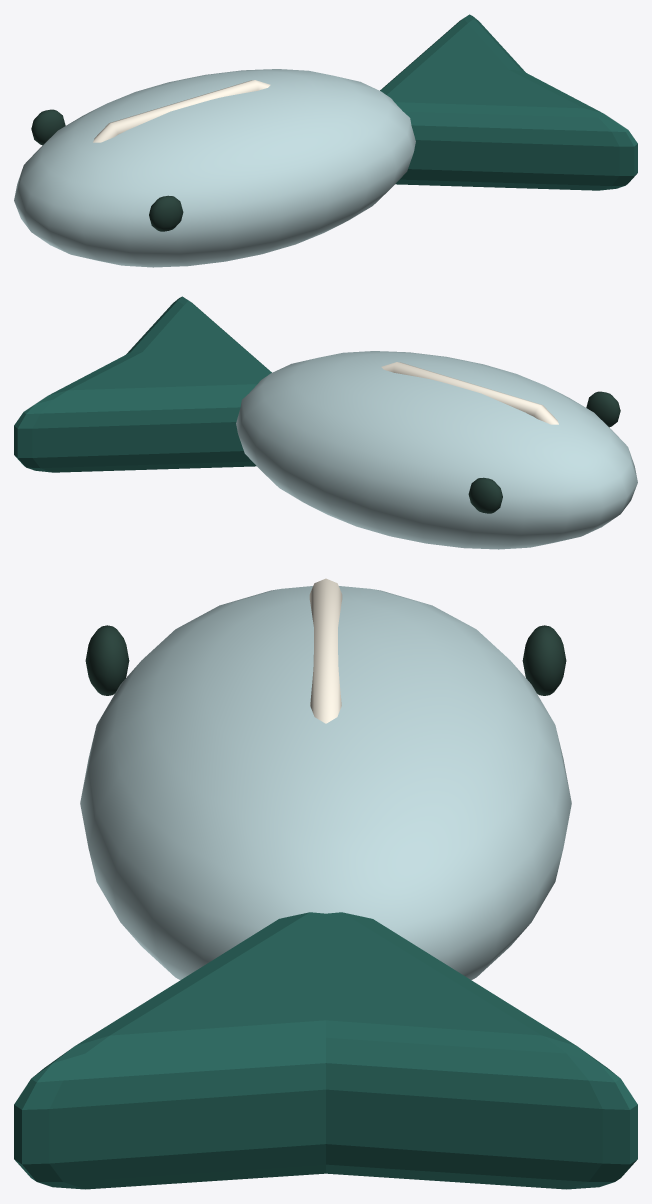
File: fish.glb
The picture shows the model from 3 angles, top to bottom: view 1: azimuth 30°, elevation 25°; view 2: azimuth 150°, elevation 25°; view 3: azimuth 270°, elevation 25°; orthographic projection. The views are drawn at different scales.
Visible parts, largest first — view 1: Cloth fish body, Distinct fish tail, Fish top seam, Fish stitched eye.001, Fish stitched eye; view 2: Cloth fish body, Distinct fish tail, Fish top seam, Fish stitched eye, Fish stitched eye.001; view 3: Cloth fish body, Distinct fish tail, Fish top seam, Fish stitched eye.001, Fish stitched eye.
Boxes of the visible parts, left/top/right/bottom form: Cloth fish body: left=14, top=69, right=415, bottom=267; Distinct fish tail: left=380, top=14, right=637, bottom=190; Fish top seam: left=93, top=80, right=270, bottom=142; Fish stitched eye.001: left=149, top=195, right=183, bottom=231; Fish stitched eye: left=31, top=109, right=65, bottom=145; Cloth fish body: left=236, top=351, right=637, bottom=549; Distinct fish tail: left=14, top=296, right=271, bottom=472; Fish top seam: left=381, top=362, right=558, bottom=424; Fish stitched eye: left=468, top=477, right=502, bottom=513; Fish stitched eye.001: left=586, top=391, right=620, bottom=427; Cloth fish body: left=80, top=586, right=571, bottom=979; Distinct fish tail: left=14, top=912, right=637, bottom=1189; Fish top seam: left=309, top=578, right=342, bottom=723; Fish stitched eye.001: left=85, top=625, right=129, bottom=695; Fish stitched eye: left=522, top=625, right=566, bottom=695.
Size of the model in its own units: 0.4177 by 0.1139 by 0.2284.
